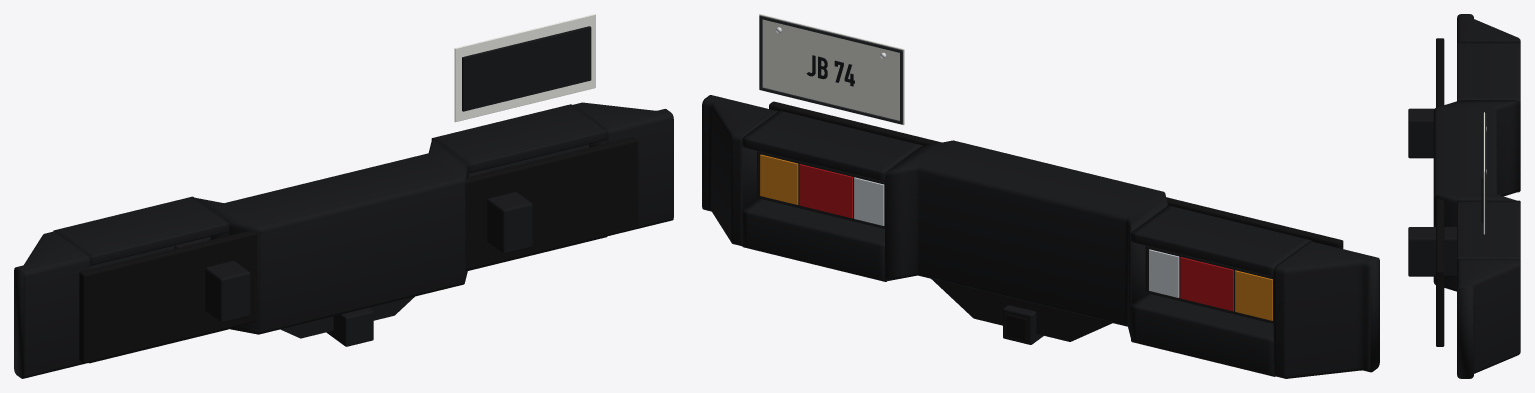
File: rearBumper_hamer_mx208.glb
3 views of the same model, side by side, from view 1: azimuth 30°, elevation 25°; view 2: azimuth 150°, elevation 25°; view 3: azimuth 270°, elevation 25° (orthographic). The views are drawn at different scales.
Visible parts, largest first — view 1: middle.003, valance.036, end-1.001, plateBracket.007, above-1, above1, end1.001, plate.043, mount-1.036, mount1.036, receiver, hitchPanel; view 2: middle.003, end-1.001, plate.043, below-1, below1, end1.001, above1, above-1, hitchPanel, valance.036, lampSeg-11.007, lampSeg11.007 (+9 smaller); view 3: middle.003, end1.001, above-1, above1, mount1.036, valance.036, mount-1.036, end-1.001, plateBracket.007, plate.043, plateRim41_3, plateRim41_0.
Part boxes in pixels (x1,y1,x2,y2): middle.003: (195, 139, 468, 334); valance.036: (79, 137, 638, 363); end-1.001: (14, 231, 90, 378); plateBracket.007: (462, 26, 591, 111); above-1: (53, 196, 229, 265); above1: (431, 104, 607, 173); end1.001: (573, 102, 673, 236); plate.043: (454, 14, 595, 122); mount-1.036: (174, 238, 250, 322); mount1.036: (468, 169, 532, 254); receiver: (326, 308, 373, 346); hitchPanel: (280, 296, 414, 338); middle.003: (885, 140, 1168, 337); end-1.001: (1273, 241, 1379, 378); plate.043: (759, 14, 904, 124); below-1: (1131, 293, 1275, 376); below1: (742, 198, 886, 281); end1.001: (702, 95, 777, 245); above1: (742, 110, 922, 181); above-1: (1131, 205, 1311, 276); hitchPanel: (930, 277, 1113, 341); valance.036: (769, 101, 1343, 248); lampSeg-11.007: (1180, 257, 1233, 311); lampSeg11.007: (799, 164, 852, 218); middle.003: (1433, 100, 1520, 291); end1.001: (1457, 259, 1520, 378); above-1: (1457, 41, 1520, 102); above1: (1457, 200, 1520, 261); mount1.036: (1408, 227, 1456, 276); valance.036: (1436, 38, 1444, 346); mount-1.036: (1408, 108, 1434, 158); end-1.001: (1457, 14, 1520, 42); plateBracket.007: (1481, 123, 1483, 223); plate.043: (1483, 112, 1484, 234); plateRim41_3: (1485, 171, 1486, 232); plateRim41_0: (1485, 113, 1486, 171).
Size of the model in its own units: 1.52 by 0.5505 by 0.265.
